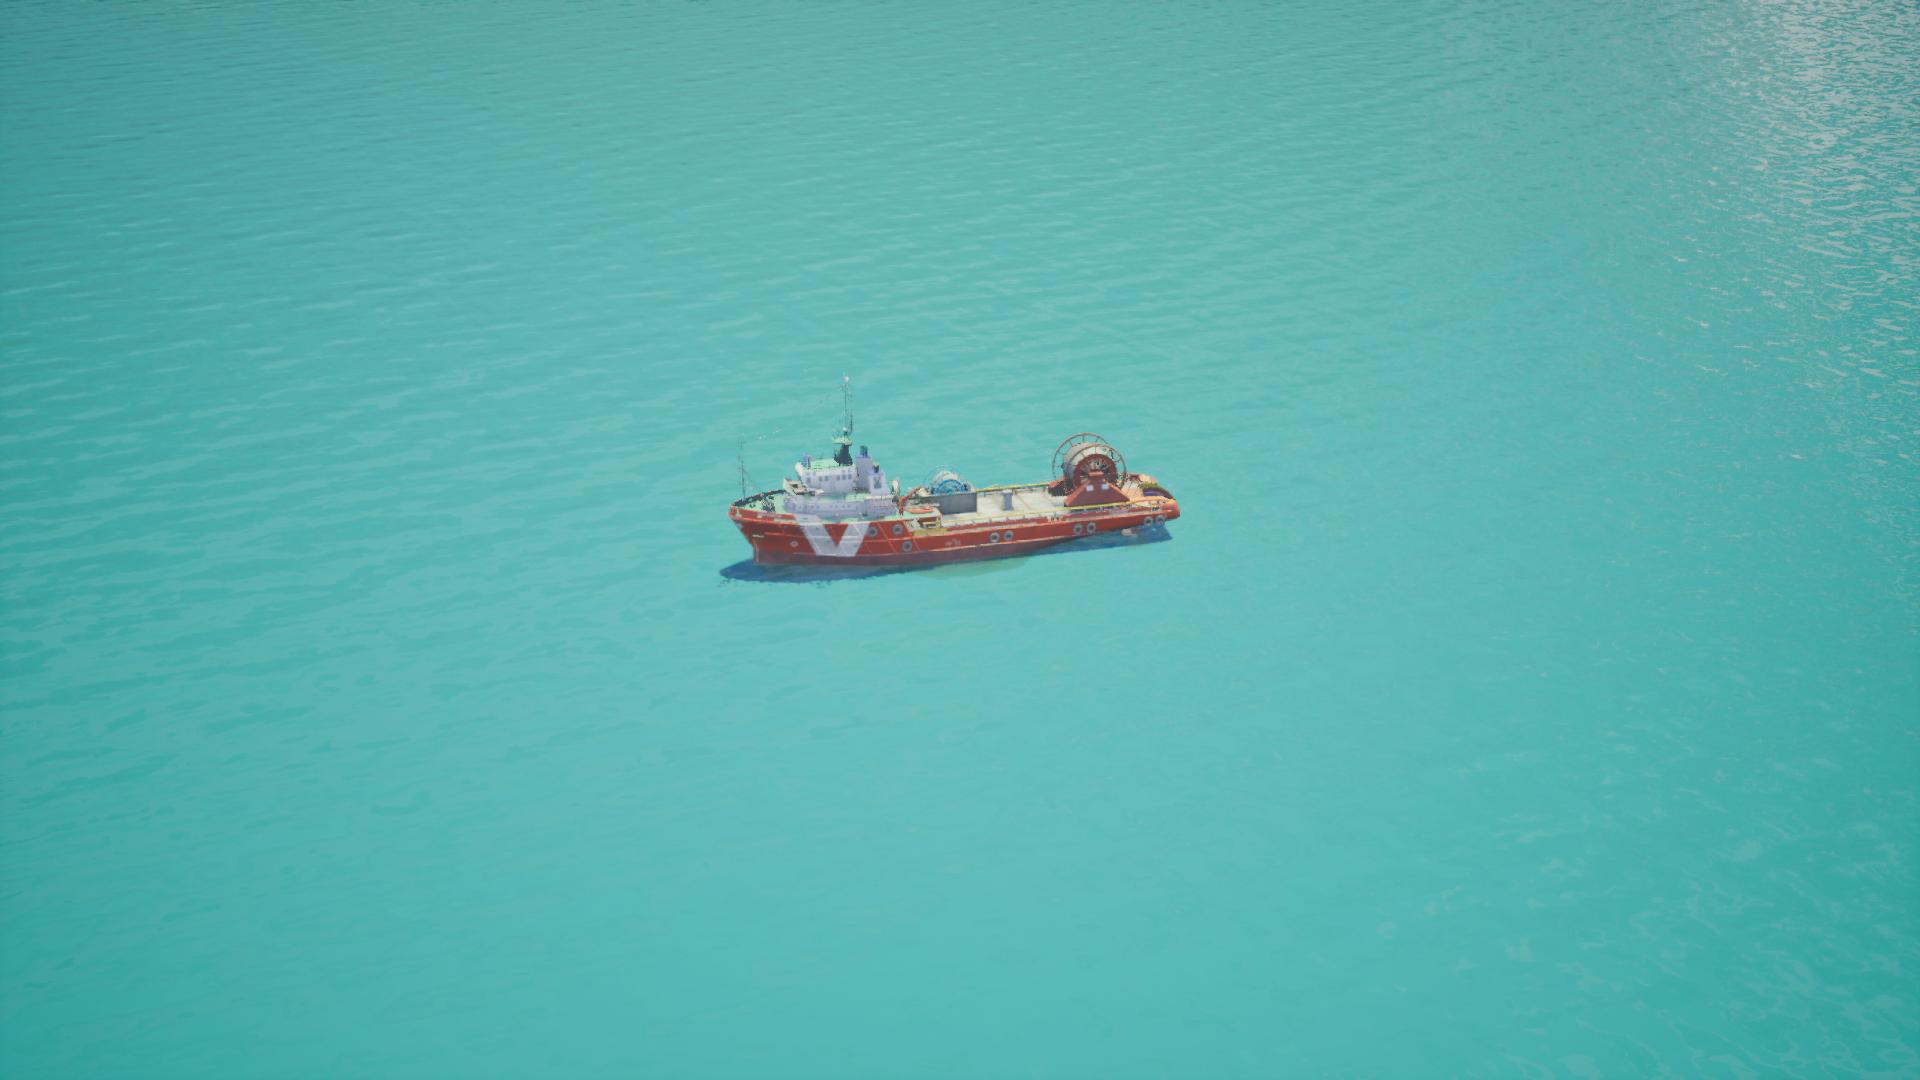Tug Boat: (725, 405, 1179, 583)
